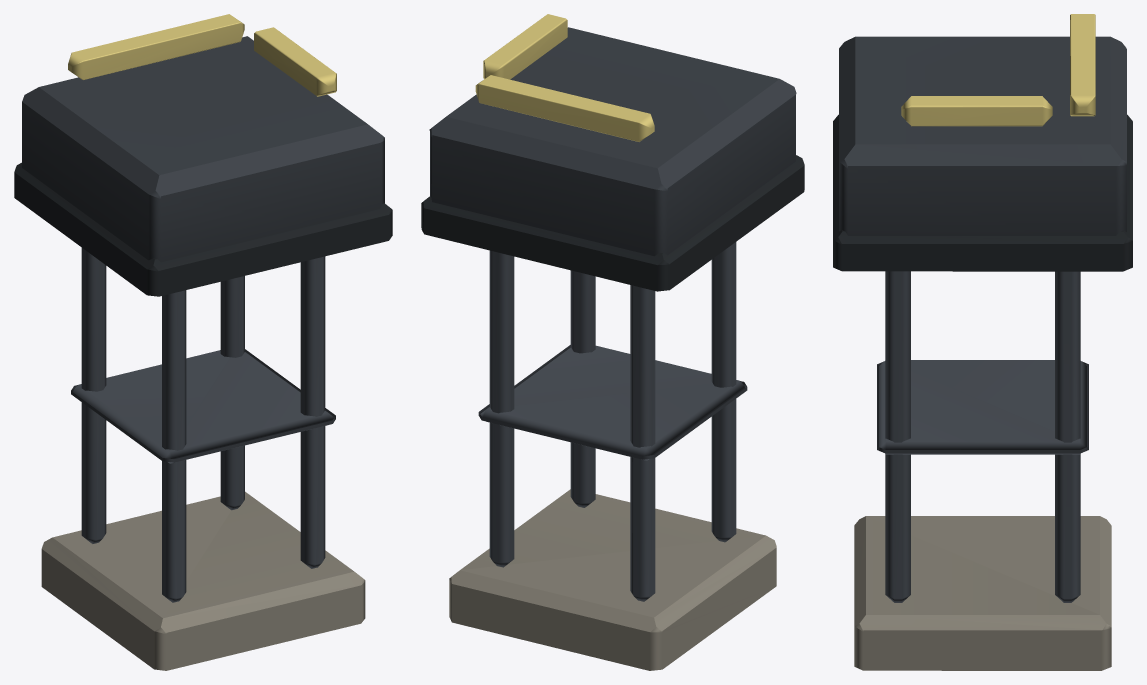
Rendered from mg_tower.glb.
The picture shows the model from 3 angles, left to right: view 1: azimuth 30°, elevation 25°; view 2: azimuth 150°, elevation 25°; view 3: azimuth 270°, elevation 25°; orthographic projection. The views are drawn at different scales.
Parts seen in each view (by area): view 1: Body; view 2: Body; view 3: Body.
Boxes of the visible parts, x1=… form: Body: x1=14, y1=14, x2=392, y2=670; Body: x1=421, y1=14, x2=804, y2=670; Body: x1=833, y1=14, x2=1132, y2=670.
Size of the model in its own units: 2.57 by 5.34 by 2.57.
